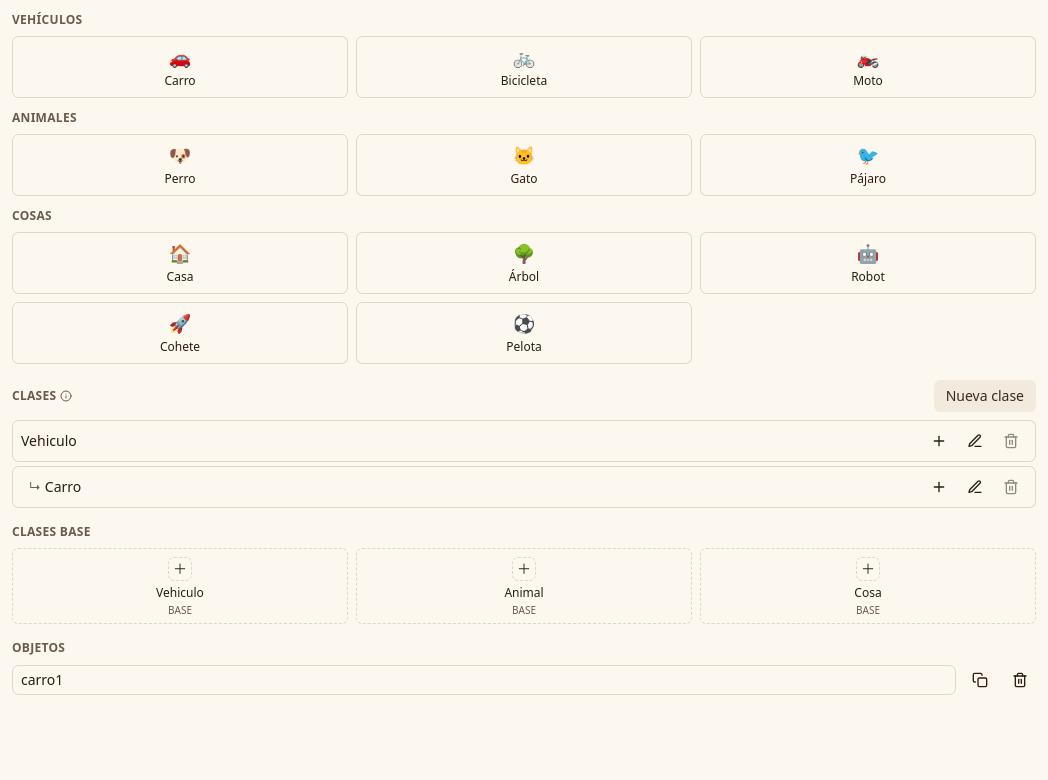
Test: FactoryView › duplicates an object
Click the button named "Duplicar carro1" at {"x": 980, "y": 680}, box [964,664,996,696]
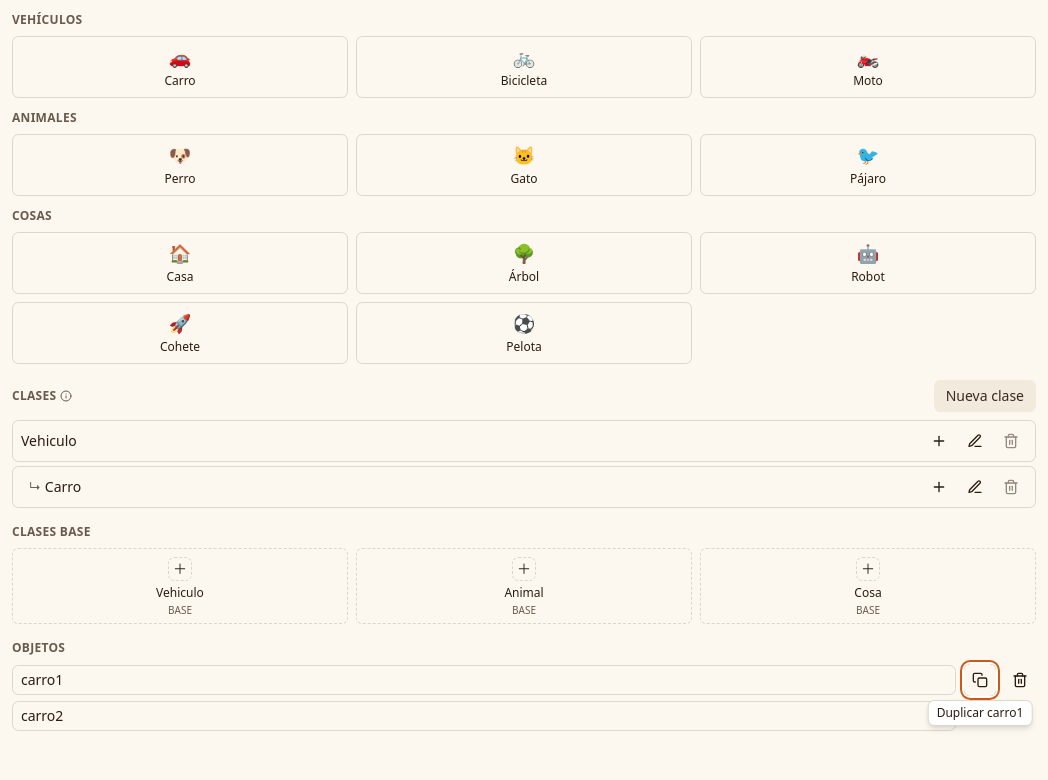
Expected: the button "carro2" is shown, [12,701,956,731]
